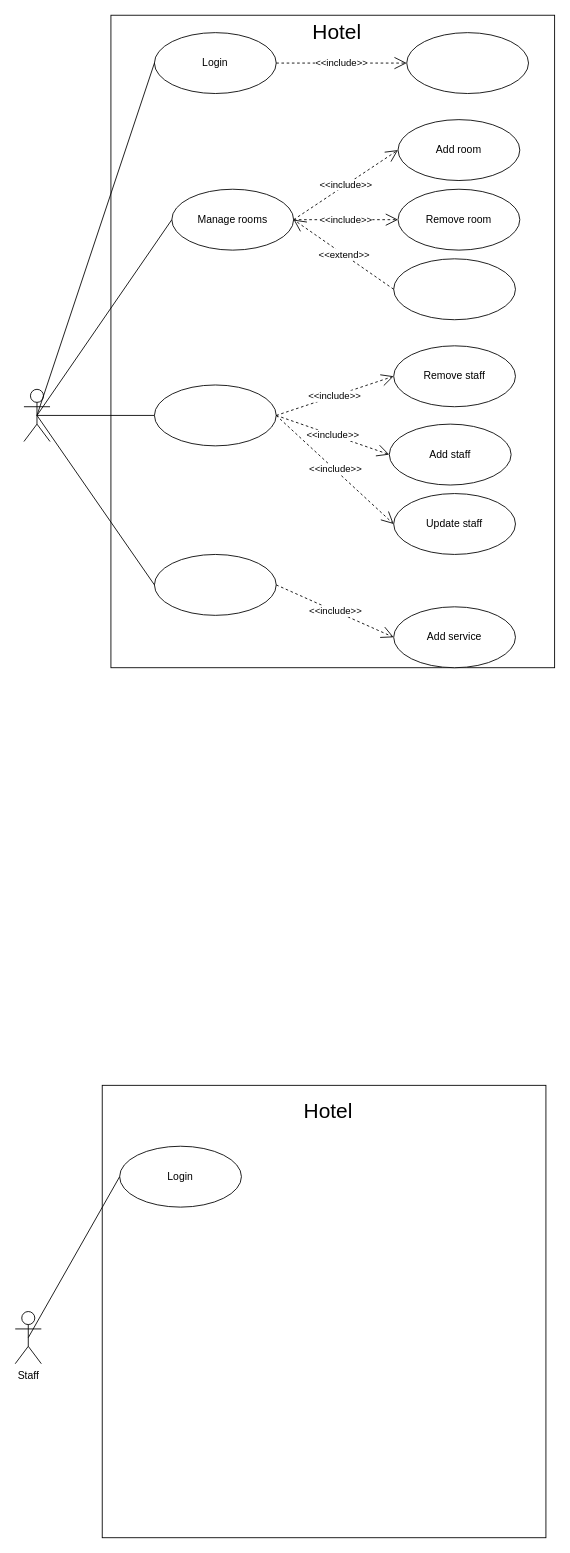
Some shapes in this 570 by 1553 pixel diagram are drawn without their labels. The shapes that lost their labels are listed below. From the top down, each one's centre as x and y in pixels, then its label:
At point 467,63: "Check user/pass".
At point 454,289: "Update room".
At point 36,415: "Admin".
At point 215,415: "manage staff".
At point 215,584: "manage service".
